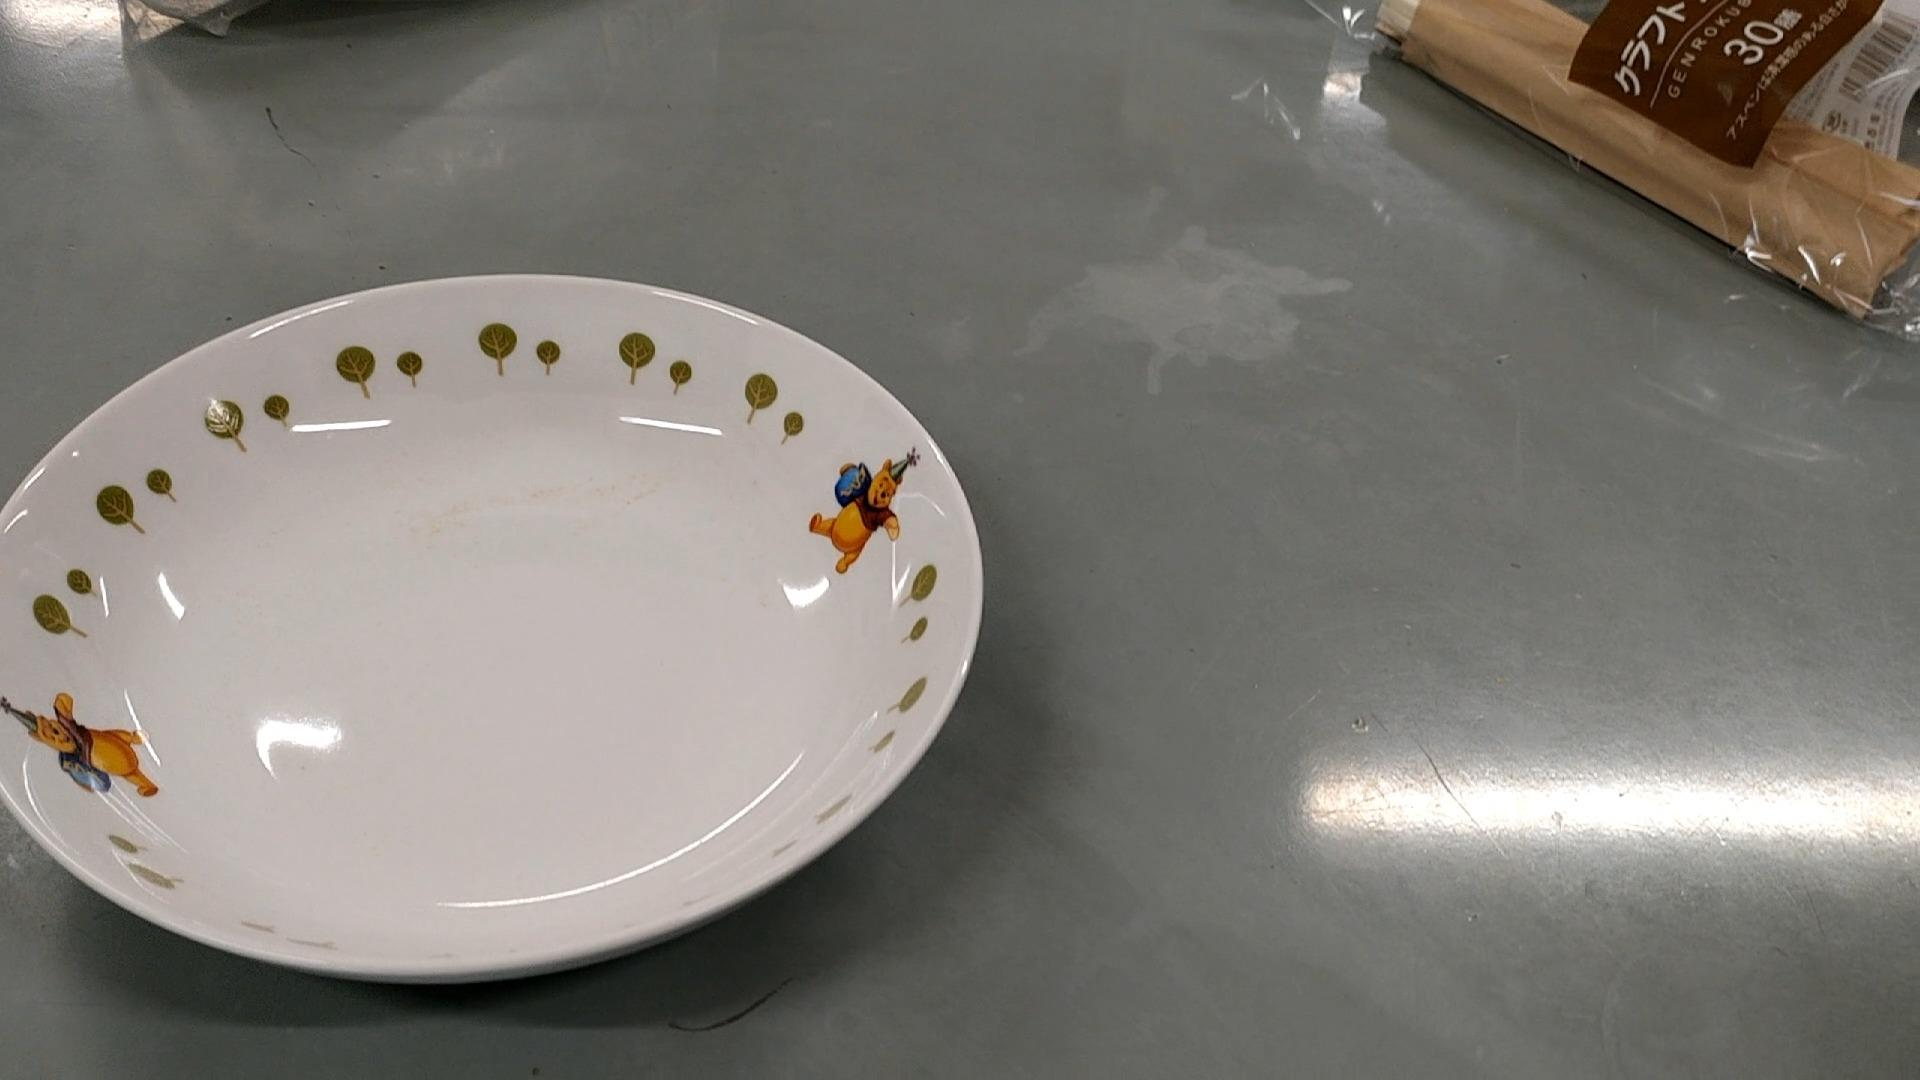plate: (3, 276, 985, 988)
